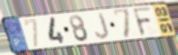4: (48, 16, 68, 46)
7: (112, 7, 133, 40), (23, 18, 40, 48)
8: (69, 14, 89, 43)
F: (132, 6, 154, 38)
J: (94, 12, 110, 40)
